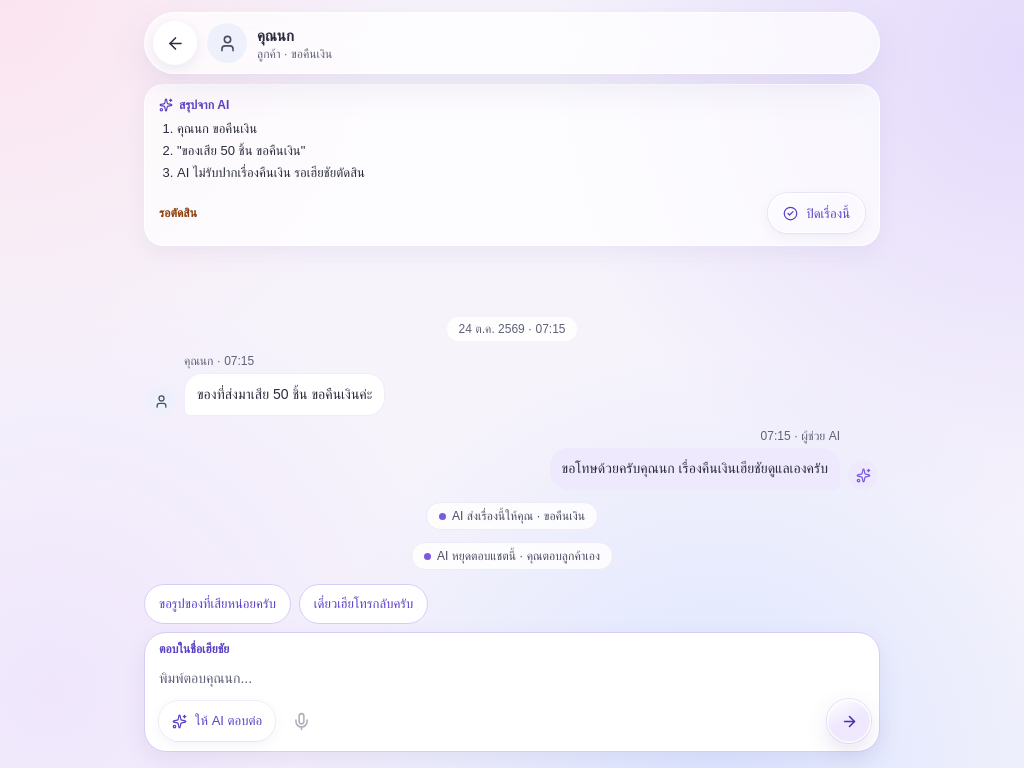
OwnerChatScreen (Owner-Chat) › ส่งไม่สำเร็จ → บอก และคืนข้อความในช่องพิมพ์
The width and height of the screenshot is (1024, 768).
Type "เดี๋ยวโทรหาครับ" into the field labelled "พิมพ์ตอบคุณนก" at (515, 678), box left=159, top=661, right=871, bottom=695
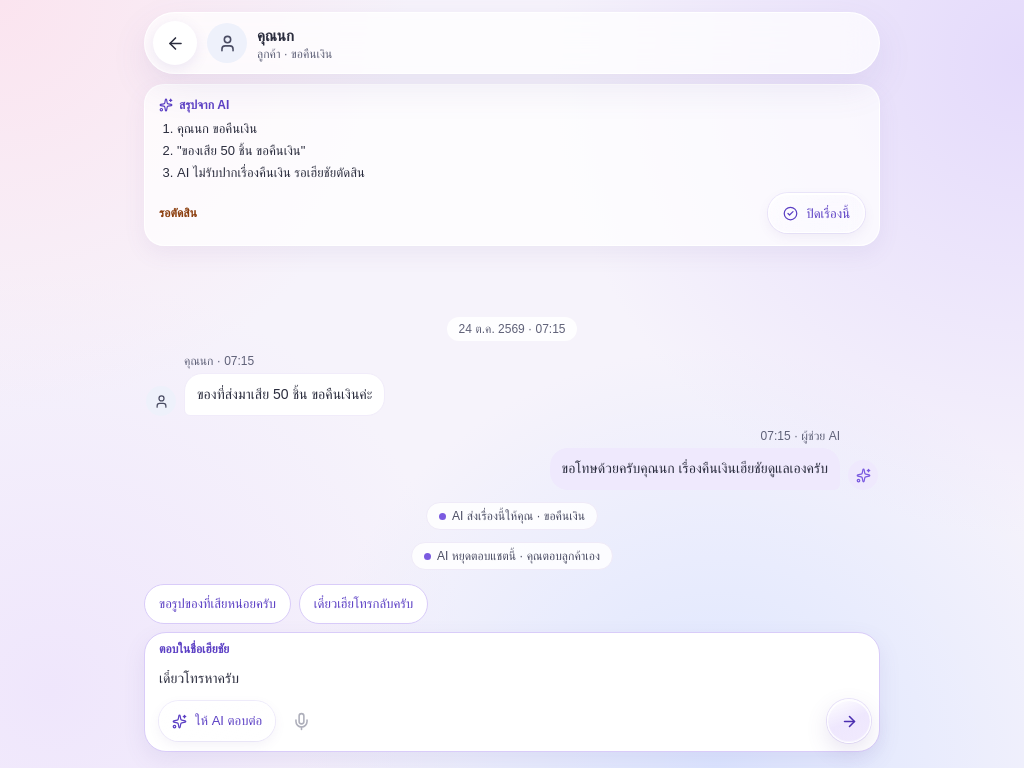
Click the button named "ส่งข้อความ" at (849, 721), box left=827, top=699, right=871, bottom=743
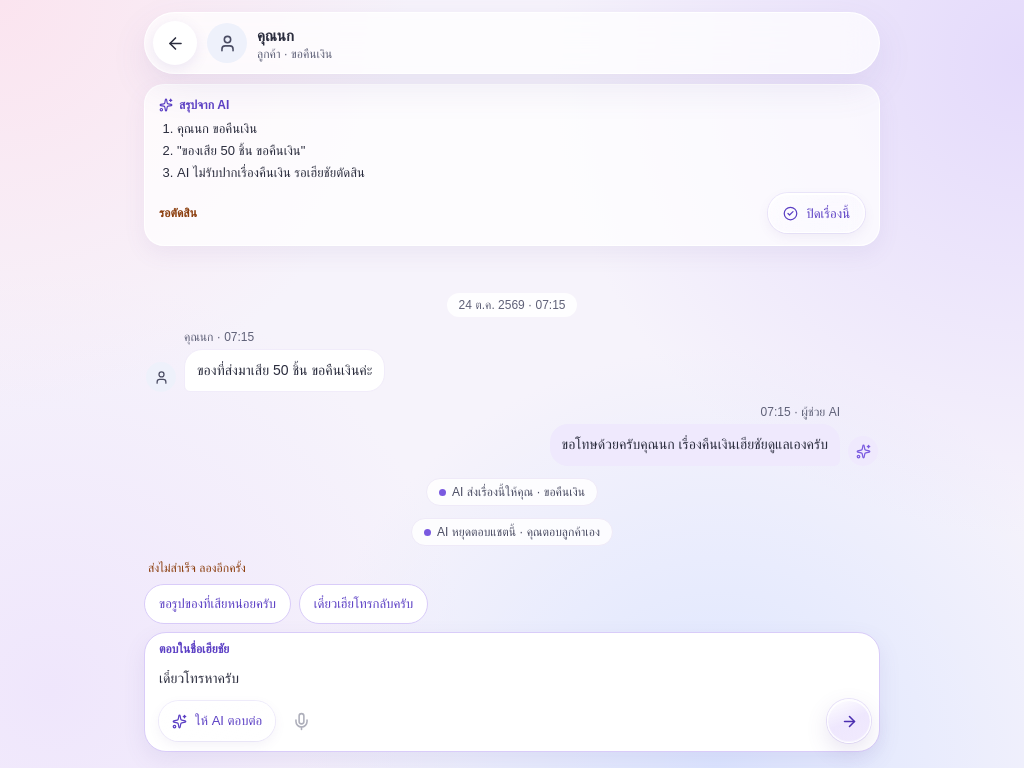
Check: the message shows "ส่งไม่สำเร็จ", box left=148, top=561, right=246, bottom=575
